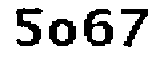5: (9, 4, 45, 49)
6: (83, 6, 119, 52)
7: (120, 3, 154, 51)
o: (47, 18, 80, 48)
